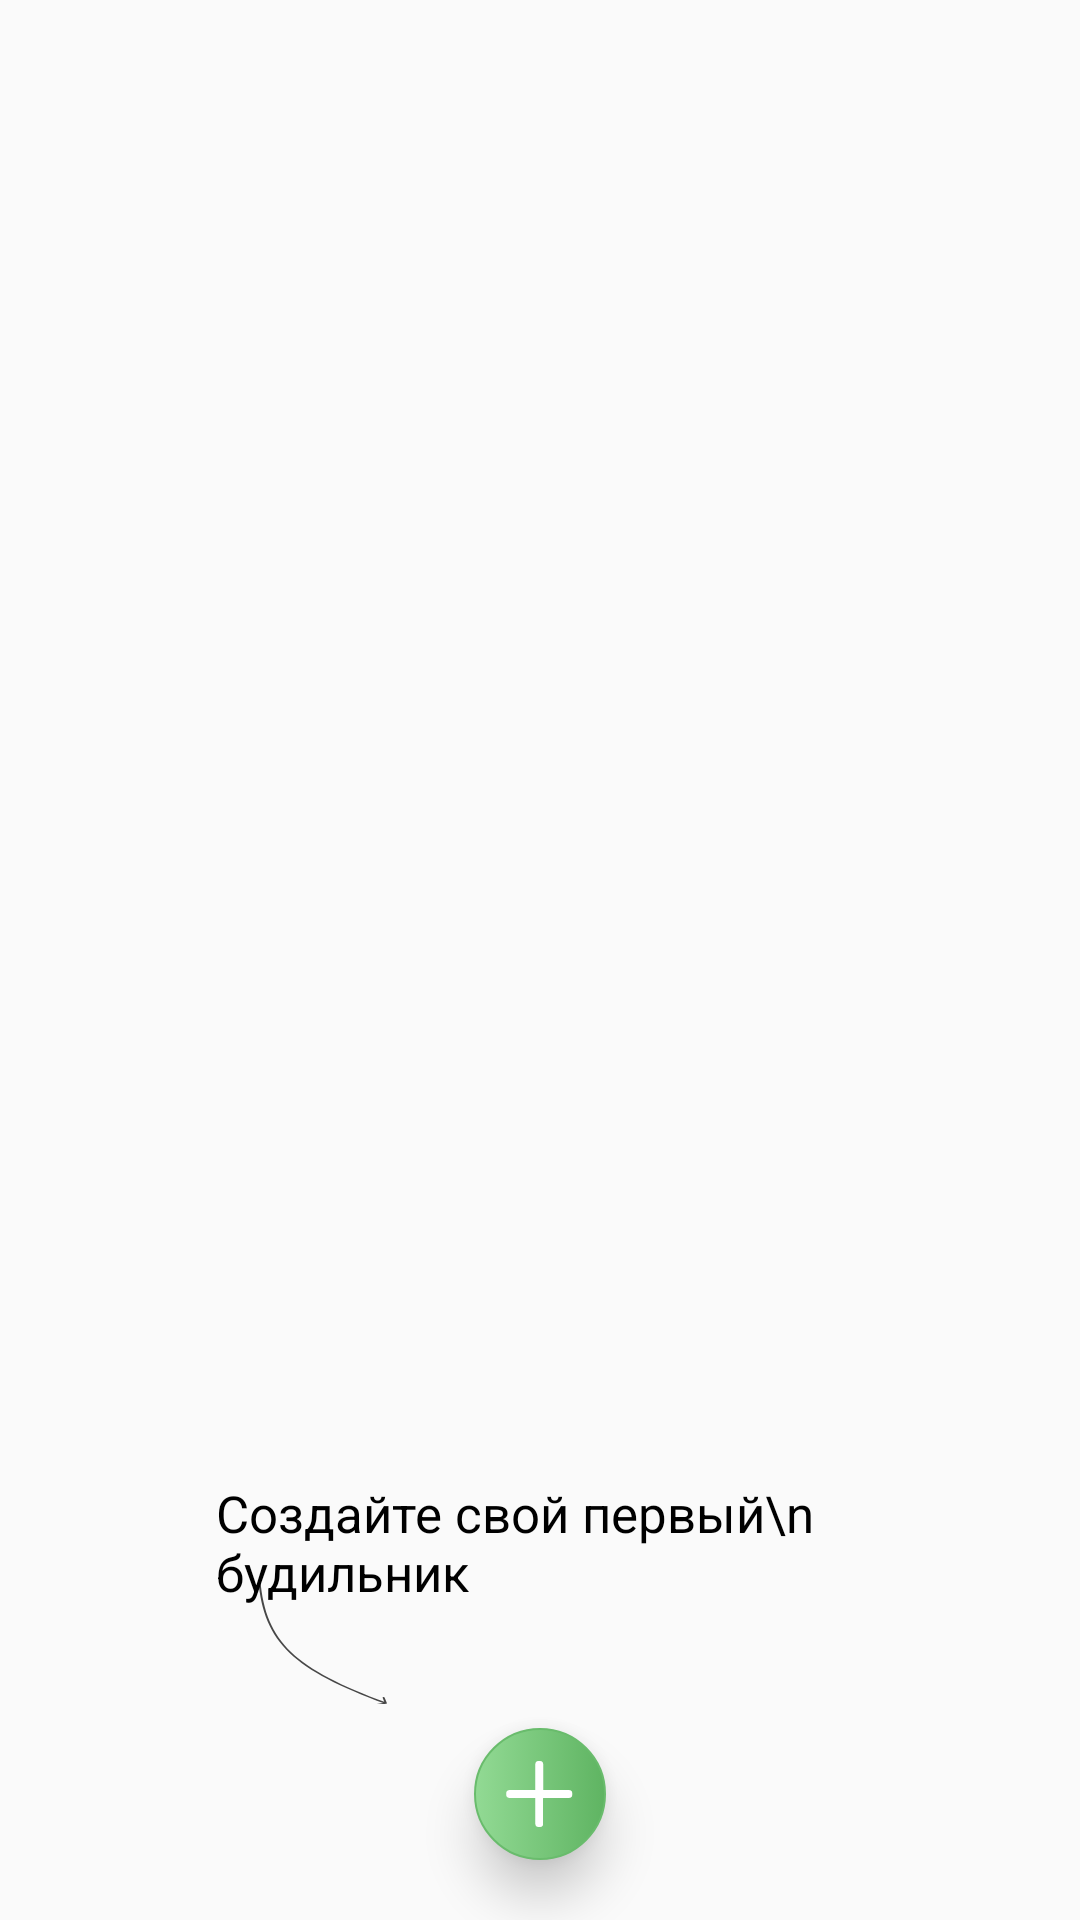

Screen size 1080×1920. Icon name, then its center in pixels as (x,y):
add: (540,1800)
